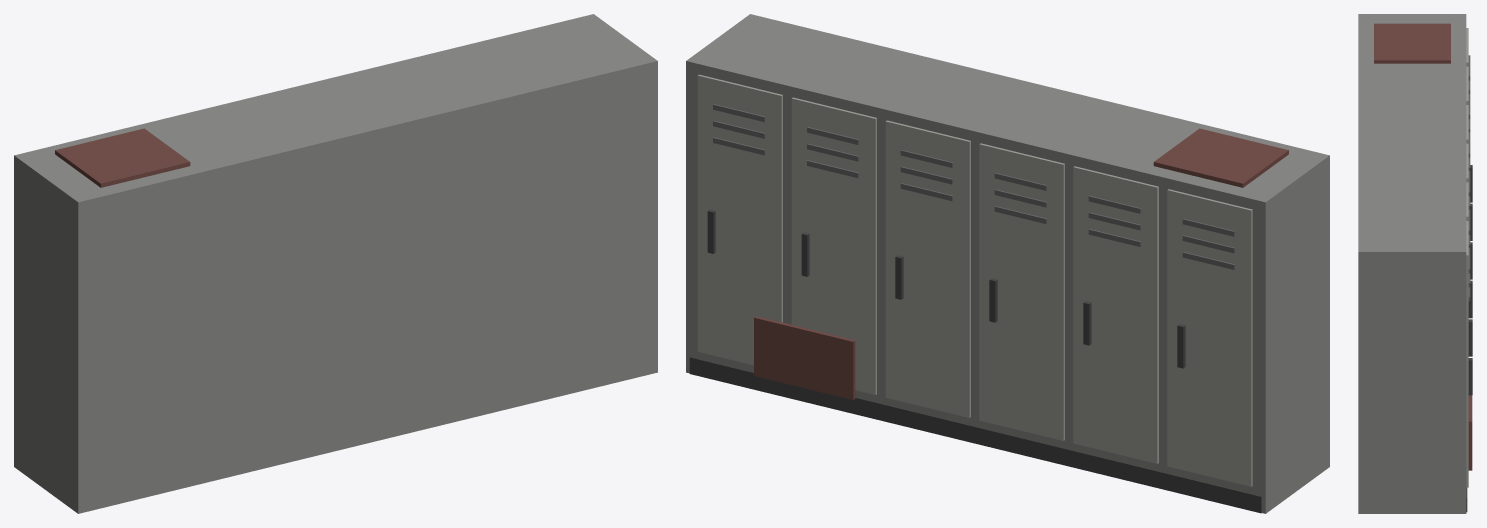
Rendered from oc_locker_bank.obj.
3 views of the same model, side by side, from view 1: azimuth 30°, elevation 25°; view 2: azimuth 150°, elevation 25°; view 3: azimuth 270°, elevation 25° (orthographic). The views are drawn at different scales.
Parts seen in each view (by area): view 1: oc_locker_bank_0, oc_locker_bank_33; view 2: oc_locker_bank_0, oc_locker_bank_12, oc_locker_bank_2, oc_locker_bank_7, oc_locker_bank_17, oc_locker_bank_27, oc_locker_bank_22, oc_locker_bank_1, oc_locker_bank_32, oc_locker_bank_33; view 3: oc_locker_bank_0, oc_locker_bank_33, oc_locker_bank_27, oc_locker_bank_32, oc_locker_bank_26, oc_locker_bank_31, oc_locker_bank_21.
Part boxes in pixels (x1,y1,x2,y2): oc_locker_bank_0: (14,14,657,513); oc_locker_bank_33: (55,128,190,187); oc_locker_bank_0: (686,14,1329,513); oc_locker_bank_12: (979,143,1064,440); oc_locker_bank_2: (1167,189,1252,486); oc_locker_bank_7: (1073,166,1158,463); oc_locker_bank_17: (885,120,970,417); oc_locker_bank_27: (697,74,782,365); oc_locker_bank_22: (791,97,876,394); oc_locker_bank_1: (689,357,1261,513); oc_locker_bank_32: (754,316,855,399); oc_locker_bank_33: (1153,128,1288,187); oc_locker_bank_0: (1358,14,1466,513); oc_locker_bank_33: (1374,23,1450,63); oc_locker_bank_27: (1466,221,1468,487); oc_locker_bank_32: (1468,395,1472,470); oc_locker_bank_26: (1468,319,1472,356); oc_locker_bank_31: (1468,358,1472,395); oc_locker_bank_21: (1468,280,1472,318).
Size of the model in its own units: 2.92 by 1.52 by 0.592.
